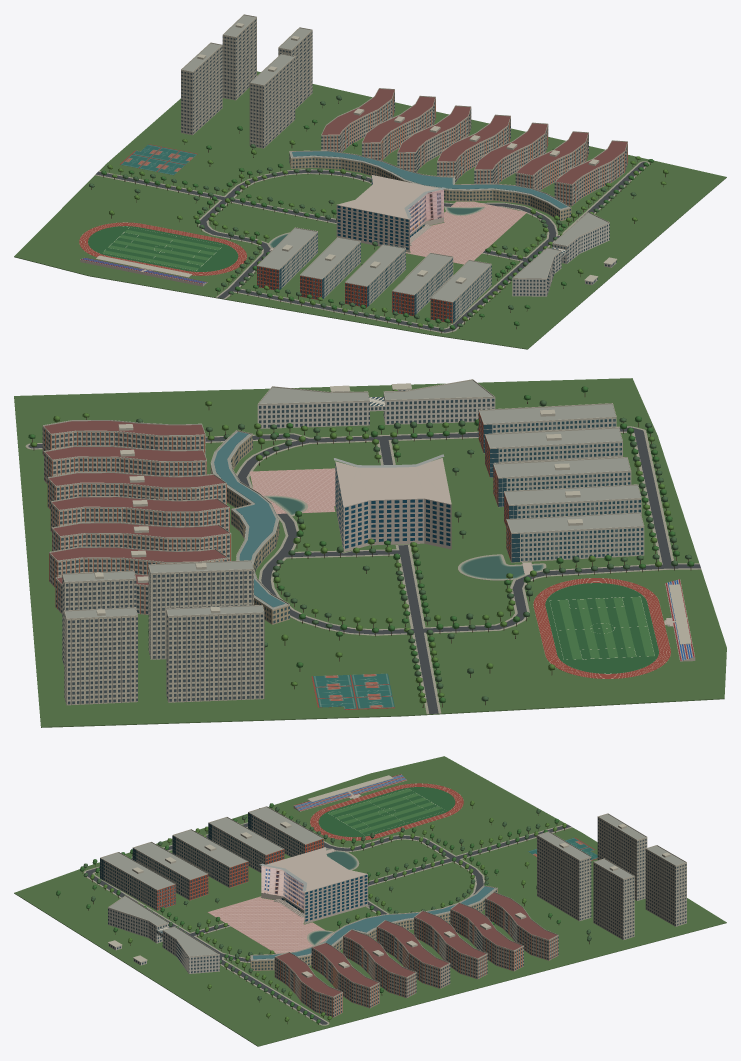
Rendered from HenanCampus.glb.
3 views of the same model, one above another, from view 1: azimuth 30°, elevation 25°; view 2: azimuth 150°, elevation 25°; view 3: azimuth 270°, elevation 25° (orthographic). The views are drawn at different scales.
Parts seen in each view (by area): view 1: Campus_ground, B13_library, Library_south_plaza, Campus_roads, B04_tower, B12_arcade, B03_tower, Campus_walkways, B01_tower, B11_dorm, B07_dorm, B05_dorm (+26 smaller); view 2: Campus_ground, B03_tower, Campus_roads, B13_library, B01_tower, B04_tower, Campus_walkways, B15_teaching, B08_dorm, B07_dorm, B09_dorm, B10_dorm (+44 smaller); view 3: Campus_ground, B04_tower, B13_library, Library_south_plaza, B01_tower, B02_tower, B03_tower, B09_dorm, B07_dorm, B05_dorm, B06_dorm, B08_dorm (+29 smaller).
Boxes of the visible parts, x1,y1,x2,y2 form: Campus_ground: (14, 71, 726, 349); B13_library: (336, 175, 443, 250); Library_south_plaza: (406, 201, 526, 264); Campus_roads: (96, 162, 645, 332); B04_tower: (249, 54, 295, 148); B12_arcade: (289, 152, 571, 220); B03_tower: (181, 43, 222, 135); Campus_walkways: (95, 161, 649, 333); B01_tower: (222, 15, 256, 100); B11_dorm: (554, 141, 627, 205); B07_dorm: (397, 106, 471, 172); B05_dorm: (321, 89, 394, 152); Campus_ground: (14, 378, 726, 727); B03_tower: (166, 606, 264, 702); Campus_roads: (28, 427, 700, 713); B13_library: (335, 458, 451, 549); B01_tower: (64, 608, 137, 705); B04_tower: (148, 561, 253, 659); Campus_walkways: (25, 426, 701, 714); B15_teaching: (506, 513, 644, 562); B08_dorm: (50, 497, 229, 531); B07_dorm: (52, 523, 231, 560); B09_dorm: (47, 473, 226, 509); B10_dorm: (44, 447, 206, 483); Campus_ground: (14, 756, 726, 1046); B04_tower: (537, 832, 591, 921); B13_library: (261, 847, 367, 922); Library_south_plaza: (207, 896, 331, 953); B01_tower: (645, 846, 686, 926); B02_tower: (593, 859, 634, 939); B03_tower: (597, 814, 647, 900); B09_dorm: (343, 930, 416, 998); B07_dorm: (414, 911, 487, 979); B05_dorm: (485, 893, 558, 960); B06_dorm: (450, 903, 523, 971); B08_dorm: (376, 921, 450, 988).
Size of the model in its own units: 722 by 73.44 by 750.
Materials: 44 (16 with a texture image).
